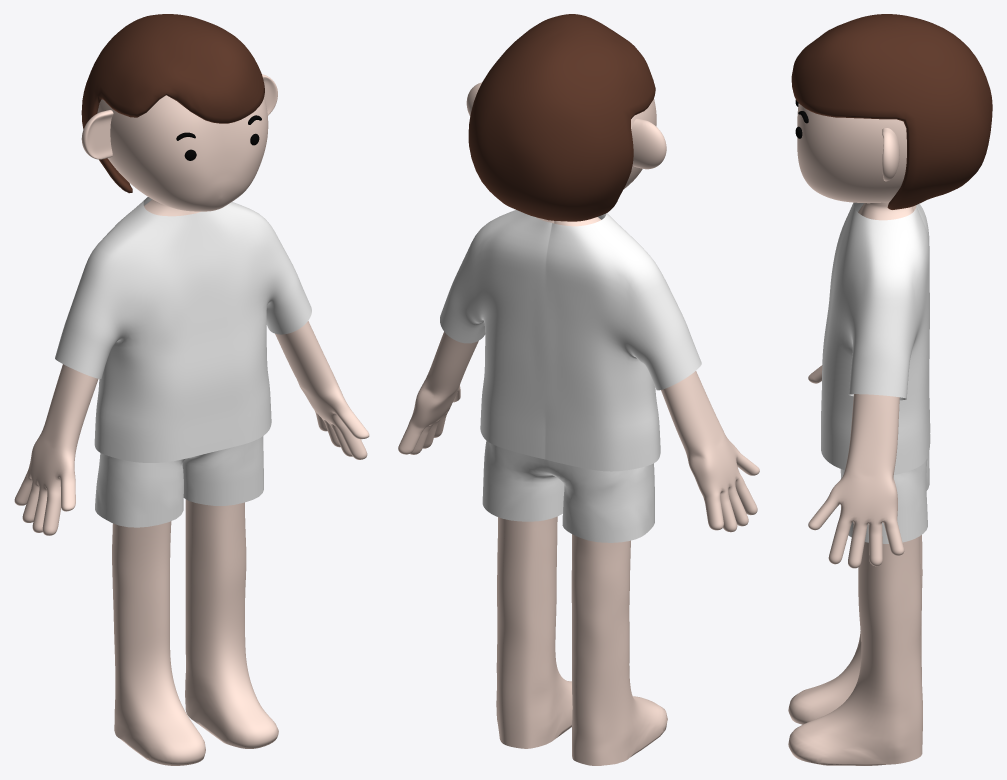
The model's file is BOY_test.fbx.
3 views of the same model, side by side, from view 1: azimuth 30°, elevation 25°; view 2: azimuth 150°, elevation 25°; view 3: azimuth 270°, elevation 25° (orthographic).
Visible parts, largest first — view 1: boy; view 2: boy; view 3: boy.
Part boxes in pixels (bbox=[...]): boy: bbox=[14, 14, 369, 765]; boy: bbox=[398, 14, 759, 765]; boy: bbox=[788, 14, 992, 765].
Bounding box in the file's own units: 3873 × 8001 × 2076.
1 material, 1 textured.
